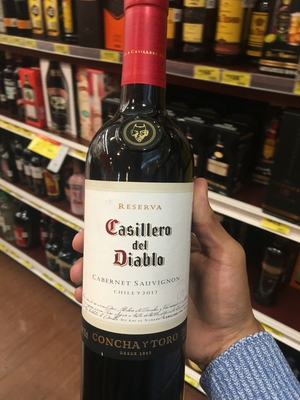casillero del diablo cabernet sauvignon: (79, 19, 203, 400)
